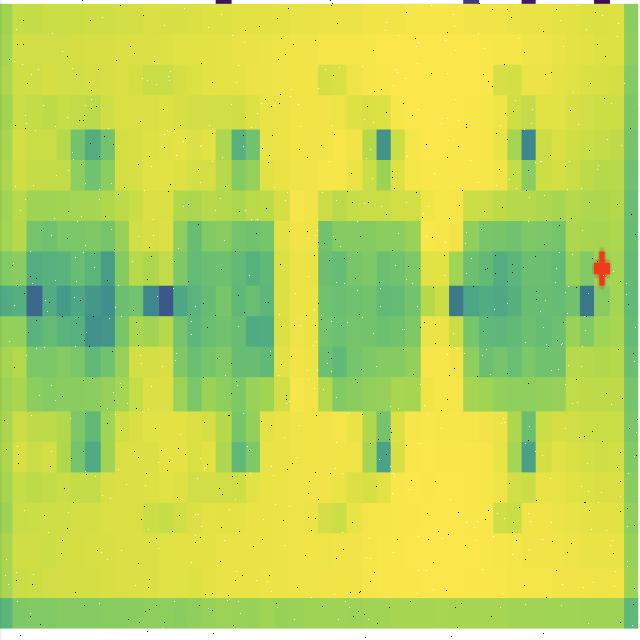Concrete: (168, 176, 297, 430)
Glass: (21, 183, 137, 443)
Metal: (311, 173, 430, 424)
Wood: (454, 178, 580, 432)
